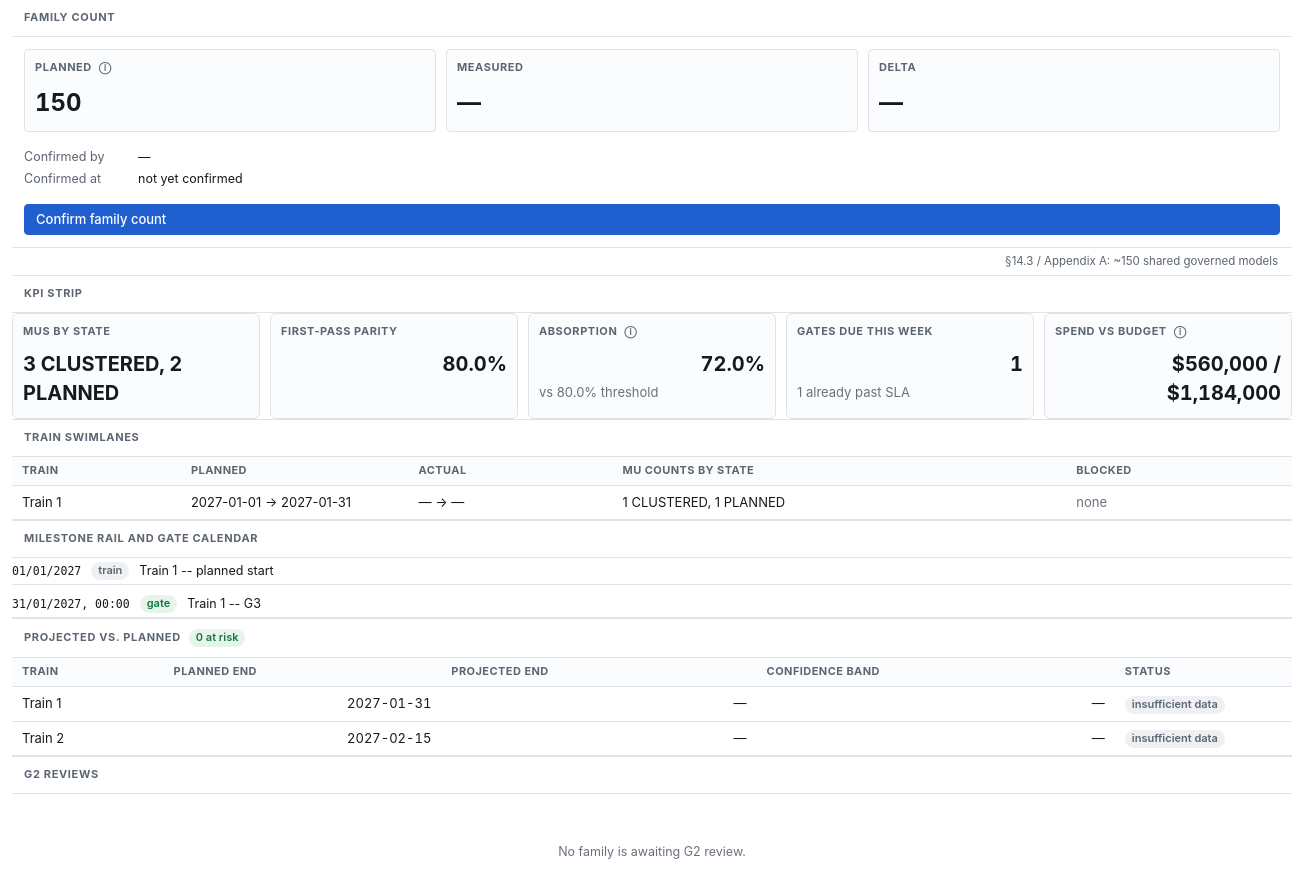
Test: confirm family count › records the confirmation and shows the measured value against the delta
This screenshot has width=1292, height=885.
What coordinates should you click on to do the following:
click the button "Confirm family count"
I would click on:
 (101, 219)
Its box is 24,204 -> 1280,235.
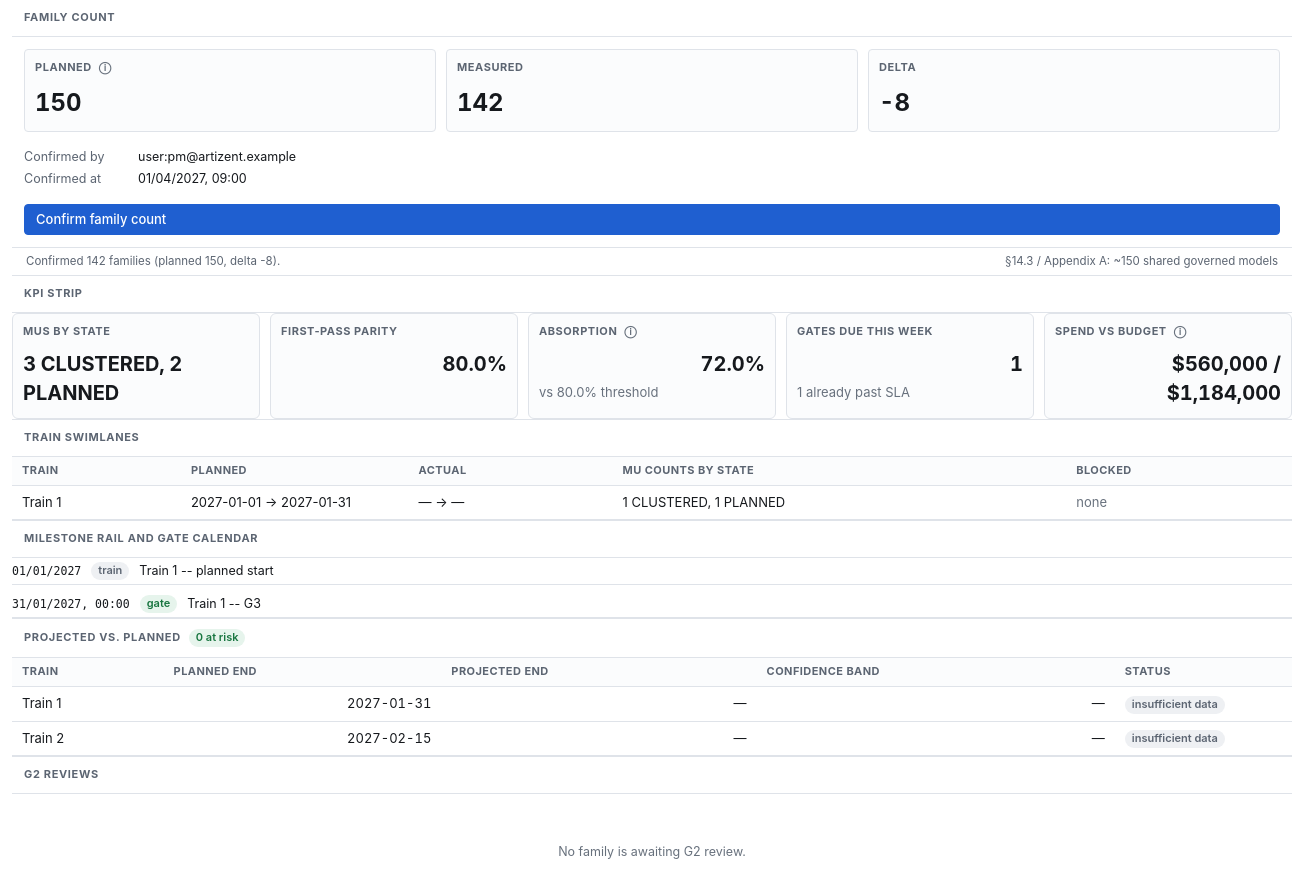
Check: the text "Confirmed 142 families (planned 150, delta -8)." is shown, box 26,253 -> 280,270
Check: the text "142" is shown, box 457,88 -> 504,117
Check: the text "-8" is shown, box 879,88 -> 910,117
